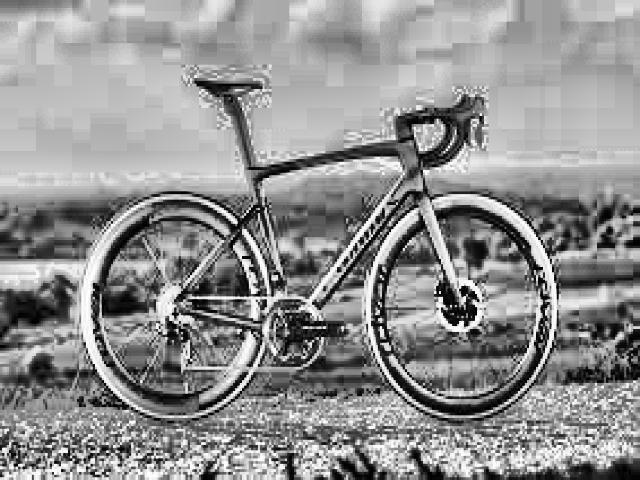cranks_set: (257, 292, 348, 372)
rear_derailleur: (155, 314, 197, 374)
saddle: (190, 74, 266, 99)
sti_shifter: (470, 89, 491, 154)
wheel: (361, 191, 560, 425), (77, 192, 271, 424)
